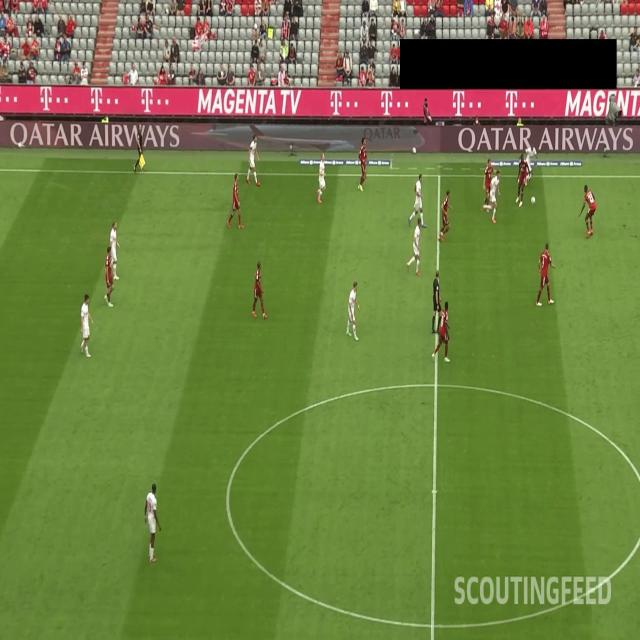ball: (529, 193, 538, 209)
player: (530, 237, 557, 306), (144, 479, 162, 566), (481, 164, 502, 228), (432, 298, 451, 366), (344, 279, 363, 342), (408, 170, 427, 230), (226, 169, 244, 231), (578, 183, 598, 238), (251, 259, 268, 321), (78, 290, 93, 359), (481, 154, 498, 213), (405, 217, 422, 276), (520, 140, 540, 189), (516, 150, 532, 210), (439, 185, 454, 243), (314, 150, 328, 205), (103, 246, 115, 310), (356, 135, 369, 194), (109, 221, 121, 281), (247, 133, 260, 185)
referee: (131, 120, 145, 174), (431, 268, 442, 334)
